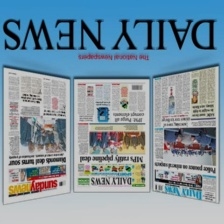news_paper: (0, 65, 72, 207), (150, 64, 222, 205), (71, 76, 152, 194)
